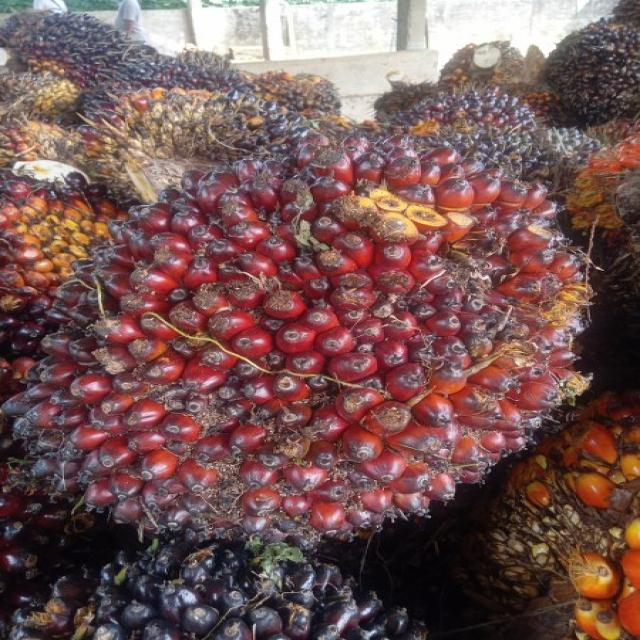fraksi 3: (35, 123, 564, 557)
